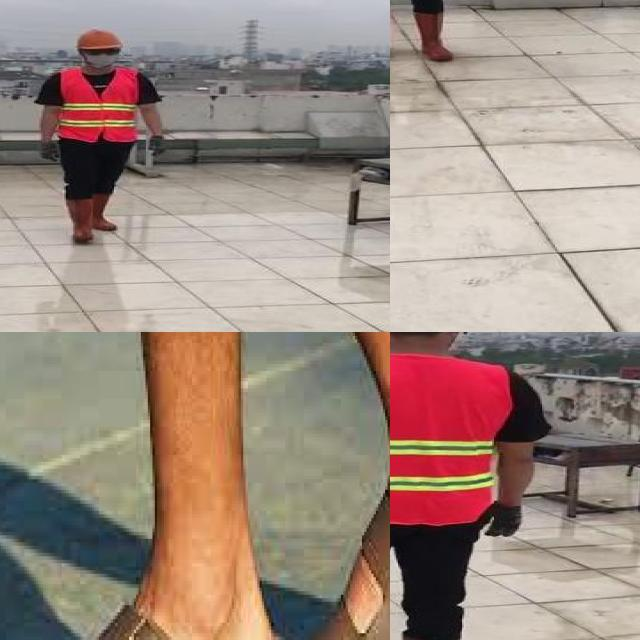Sandals: (0, 537, 305, 640)
boots: (414, 9, 454, 61), (61, 196, 98, 244), (94, 197, 120, 229)
face_mask: (81, 46, 122, 68)
glasses: (78, 46, 124, 59)
hand_glove: (482, 504, 524, 537), (144, 136, 169, 158), (41, 140, 61, 161)
head_helmet: (72, 29, 126, 52)
person: (390, 332, 558, 640), (30, 25, 174, 250)
vest: (390, 353, 512, 525), (59, 68, 137, 142)
